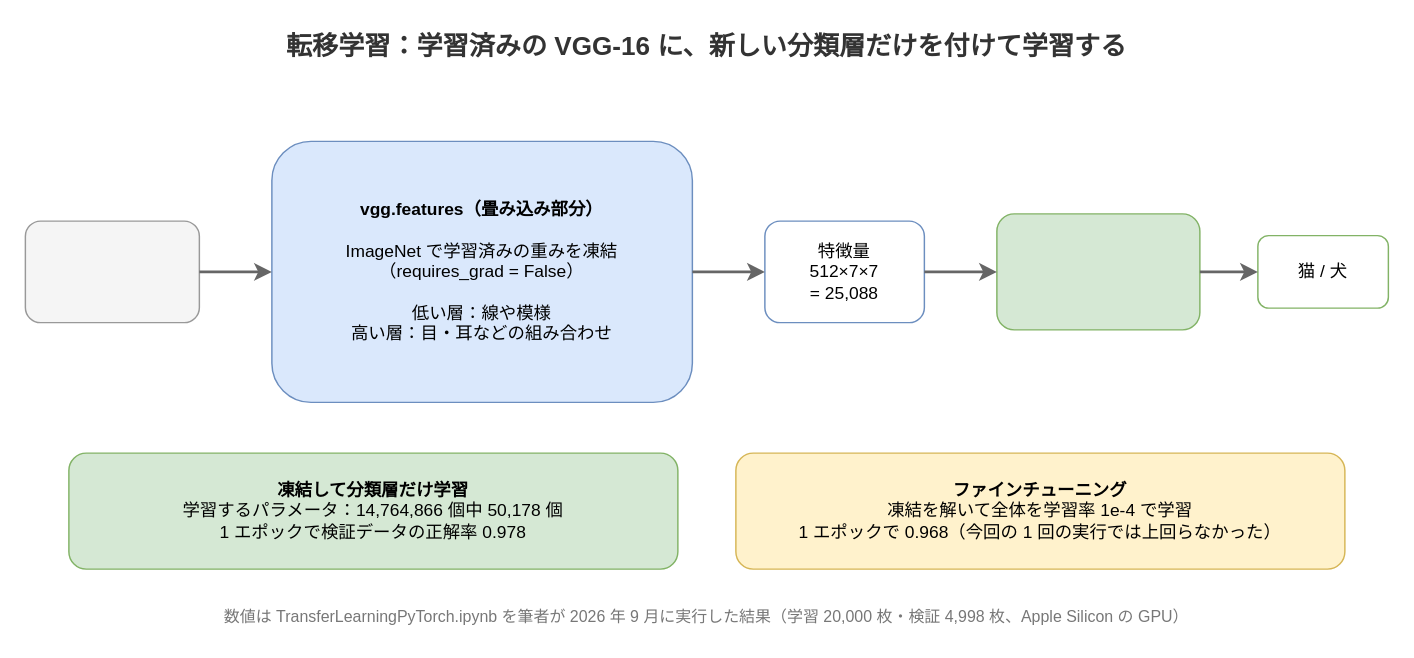
Some shapes in this 1414 by 658 pixel diagram are drawn without their labels. Here are the shapes that lost their labels. From the top down, the box of each, then its label:
(24, 220, 199, 323): 猫か犬の写真 224×224×3
(995, 212, 1200, 330): 新しい分類層 Linear(25088, 2) ここだけ学習
